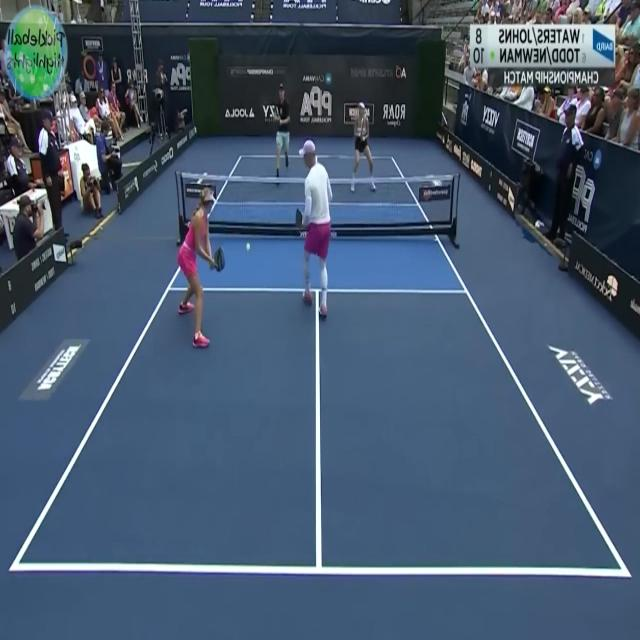Pickleball: (245, 241, 251, 254)
